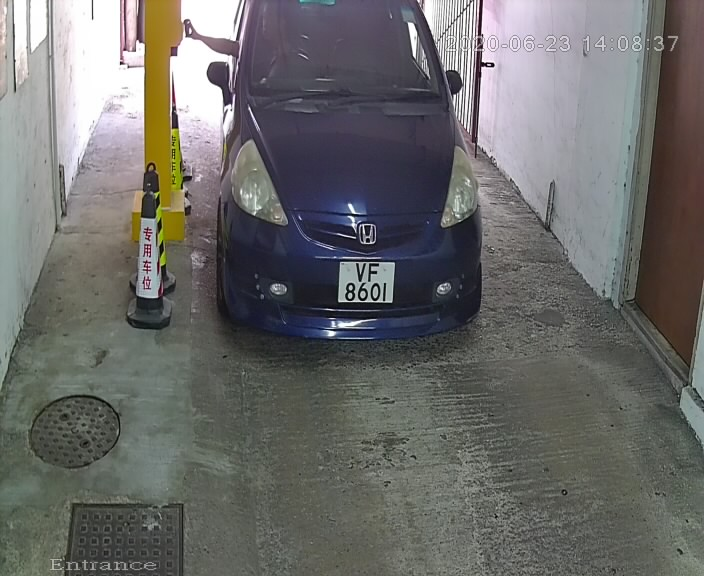privatecar: (191, 2, 493, 352)
